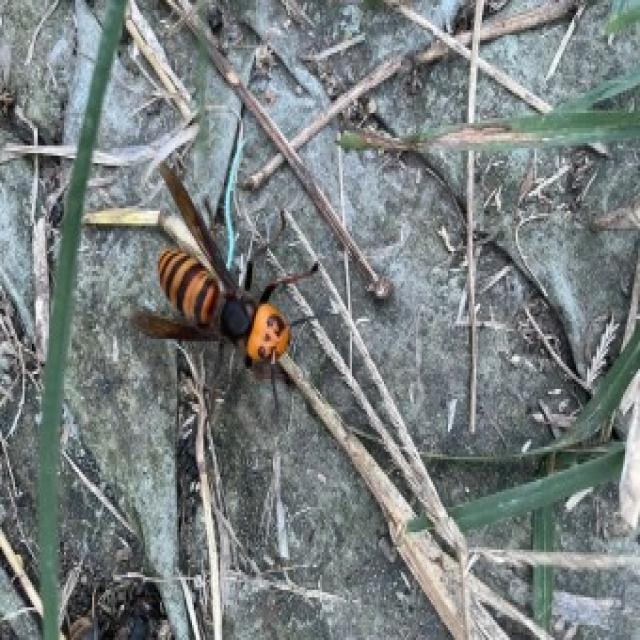Wasp: (140, 146, 297, 373)
